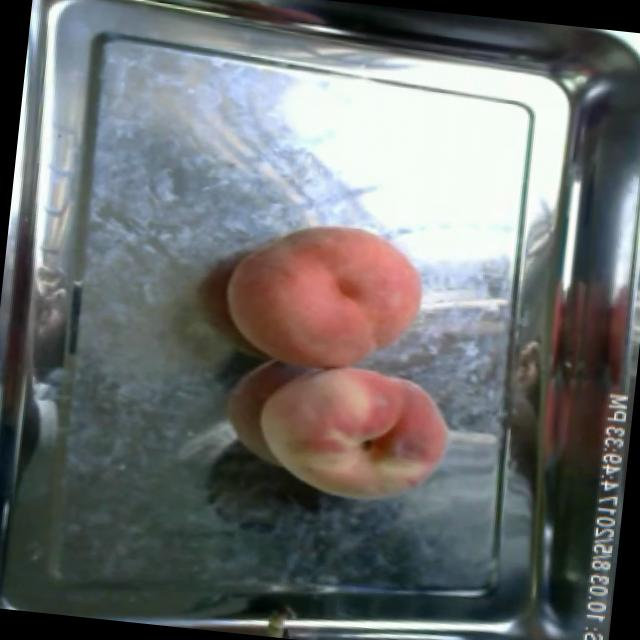Fruit: (208, 202, 440, 382), (244, 348, 464, 516)
